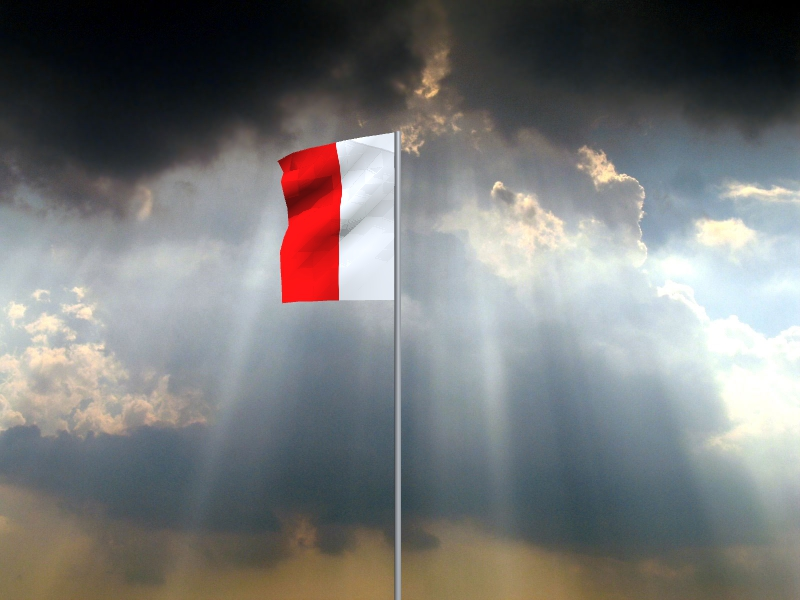id: (276, 133, 394, 305)
